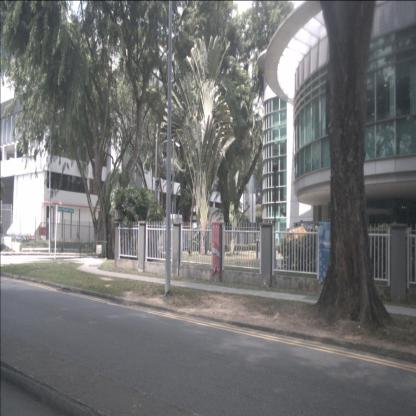vehicle-bicycle: (84, 241, 93, 254)
vehicle-car: (284, 221, 332, 255)
